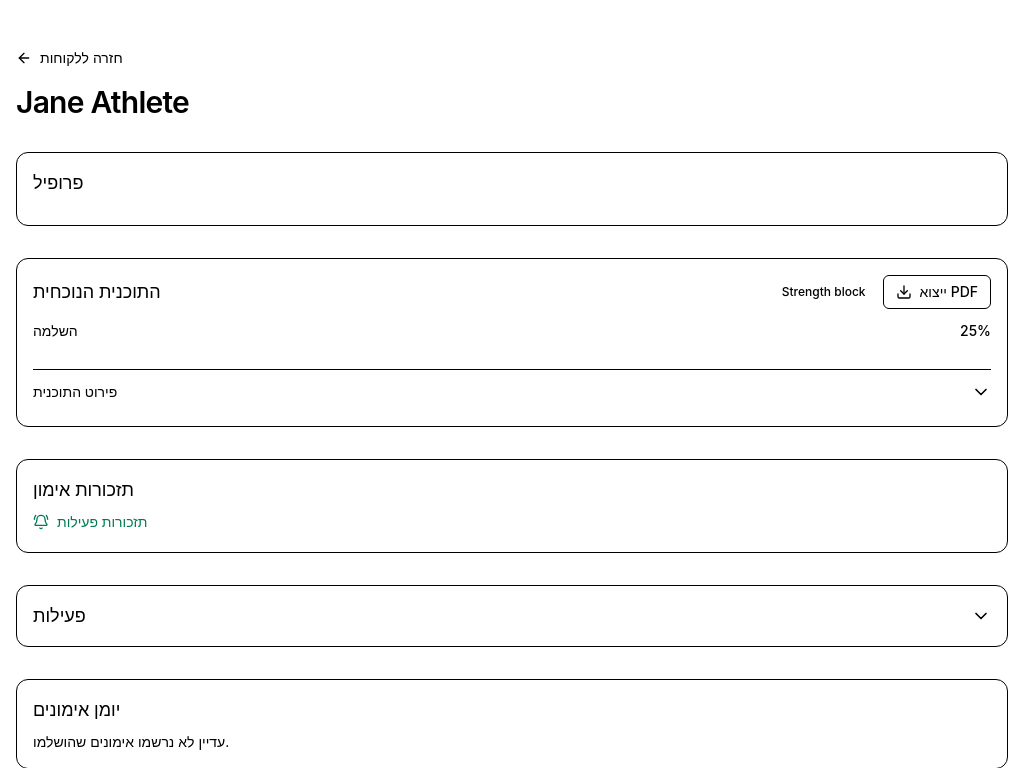
ClientDashboard plan detail › renders the plan detail under /he (RTL catalog)
This screenshot has width=1024, height=768.
Click the button named "פירוט התוכנית". click: click(512, 392)
box: [33,374,991,410]
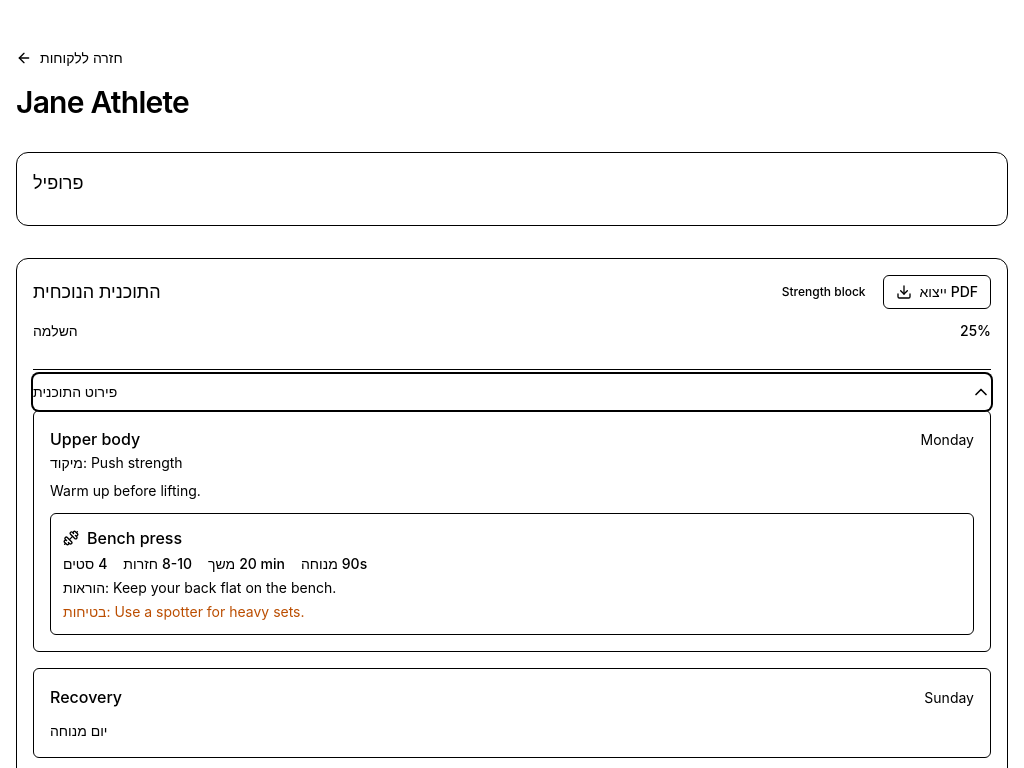
Expected: the text "Bench press" is shown, [63,528,182,548]
Expected: the text "יום מנוחה" is shown, [50,722,108,739]
Expected: the text "סטים" is shown, [63,554,94,574]
